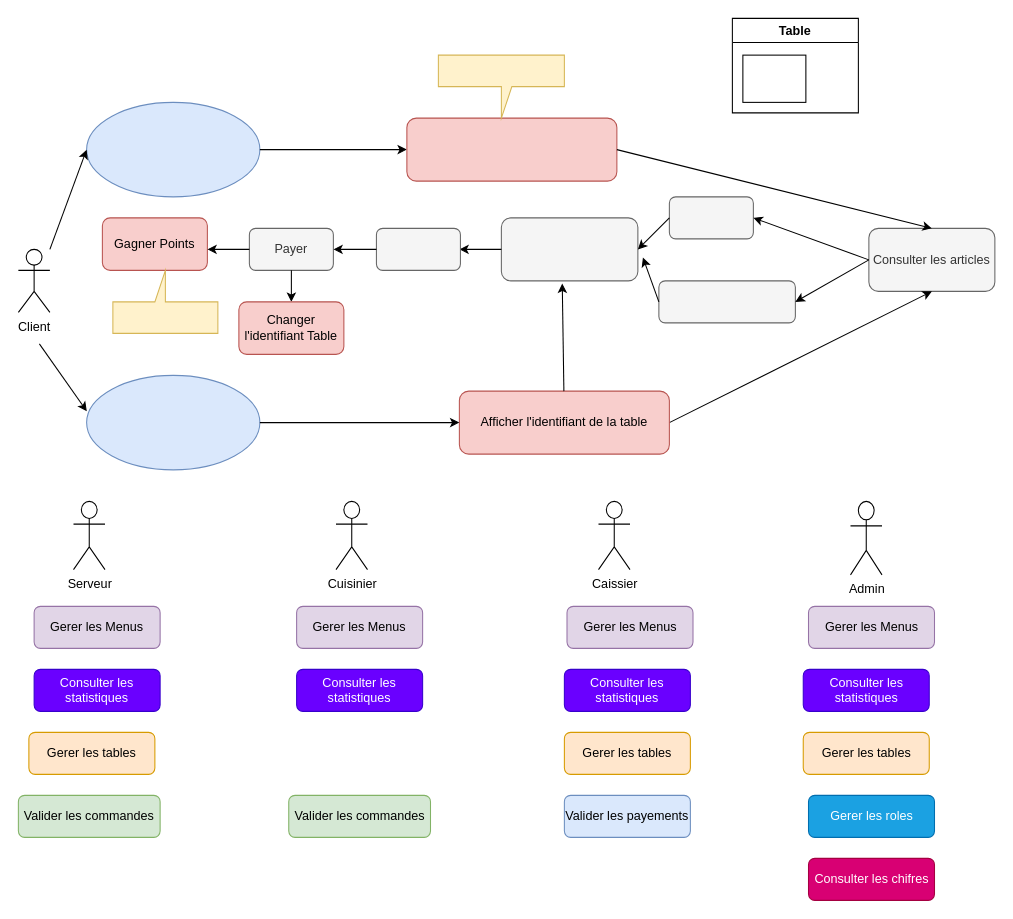
The diagram is 1013 pixels wide and 919 high, and some of its shapes have lost their labels. Each missing label, with the centre of its shape:
Commander: the point at 710,217
Entrer le nom + Prendre Photo temp: the point at 500,86
Entrer Numero Tel: the point at 165,301
Identifiant Nom QR: the point at 774,78
Offrir a une autre table avec message: the point at 726,301
Recevoir: the point at 417,248
Scan le QR code: the point at 173,149
Suivre la commande / votre panier: the point at 569,249
Table identifiee (QR deja scanne): the point at 173,422
Valider l'identification de la table: the point at 511,149
